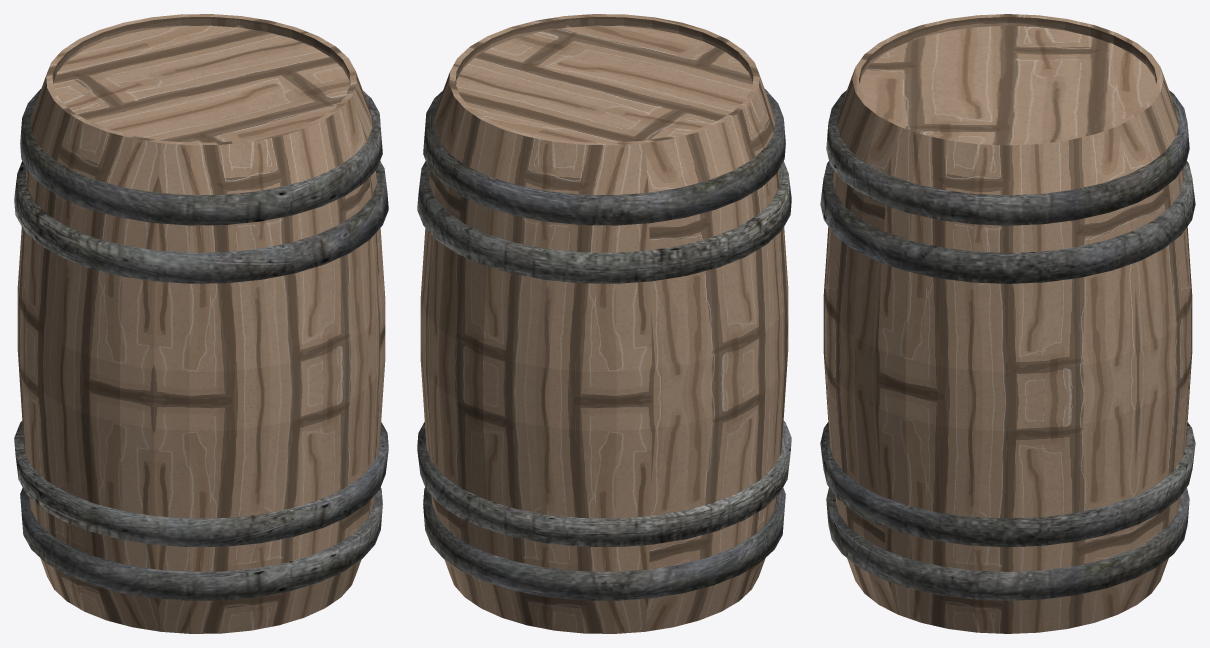
The model's file is fıçı.fbx.
The picture shows the model from 3 angles, left to right: view 1: azimuth 30°, elevation 25°; view 2: azimuth 150°, elevation 25°; view 3: azimuth 270°, elevation 25°; orthographic projection.
Visible parts, largest first — view 1: Circle; view 2: Circle; view 3: Circle.
Part boxes in pixels (x1,y1,x2,y2): Circle: [14, 14, 388, 633]; Circle: [417, 14, 791, 633]; Circle: [820, 14, 1195, 633].
Size of the model in its own units: 91.21 by 131 by 91.21.
3 materials, 2 textured.
